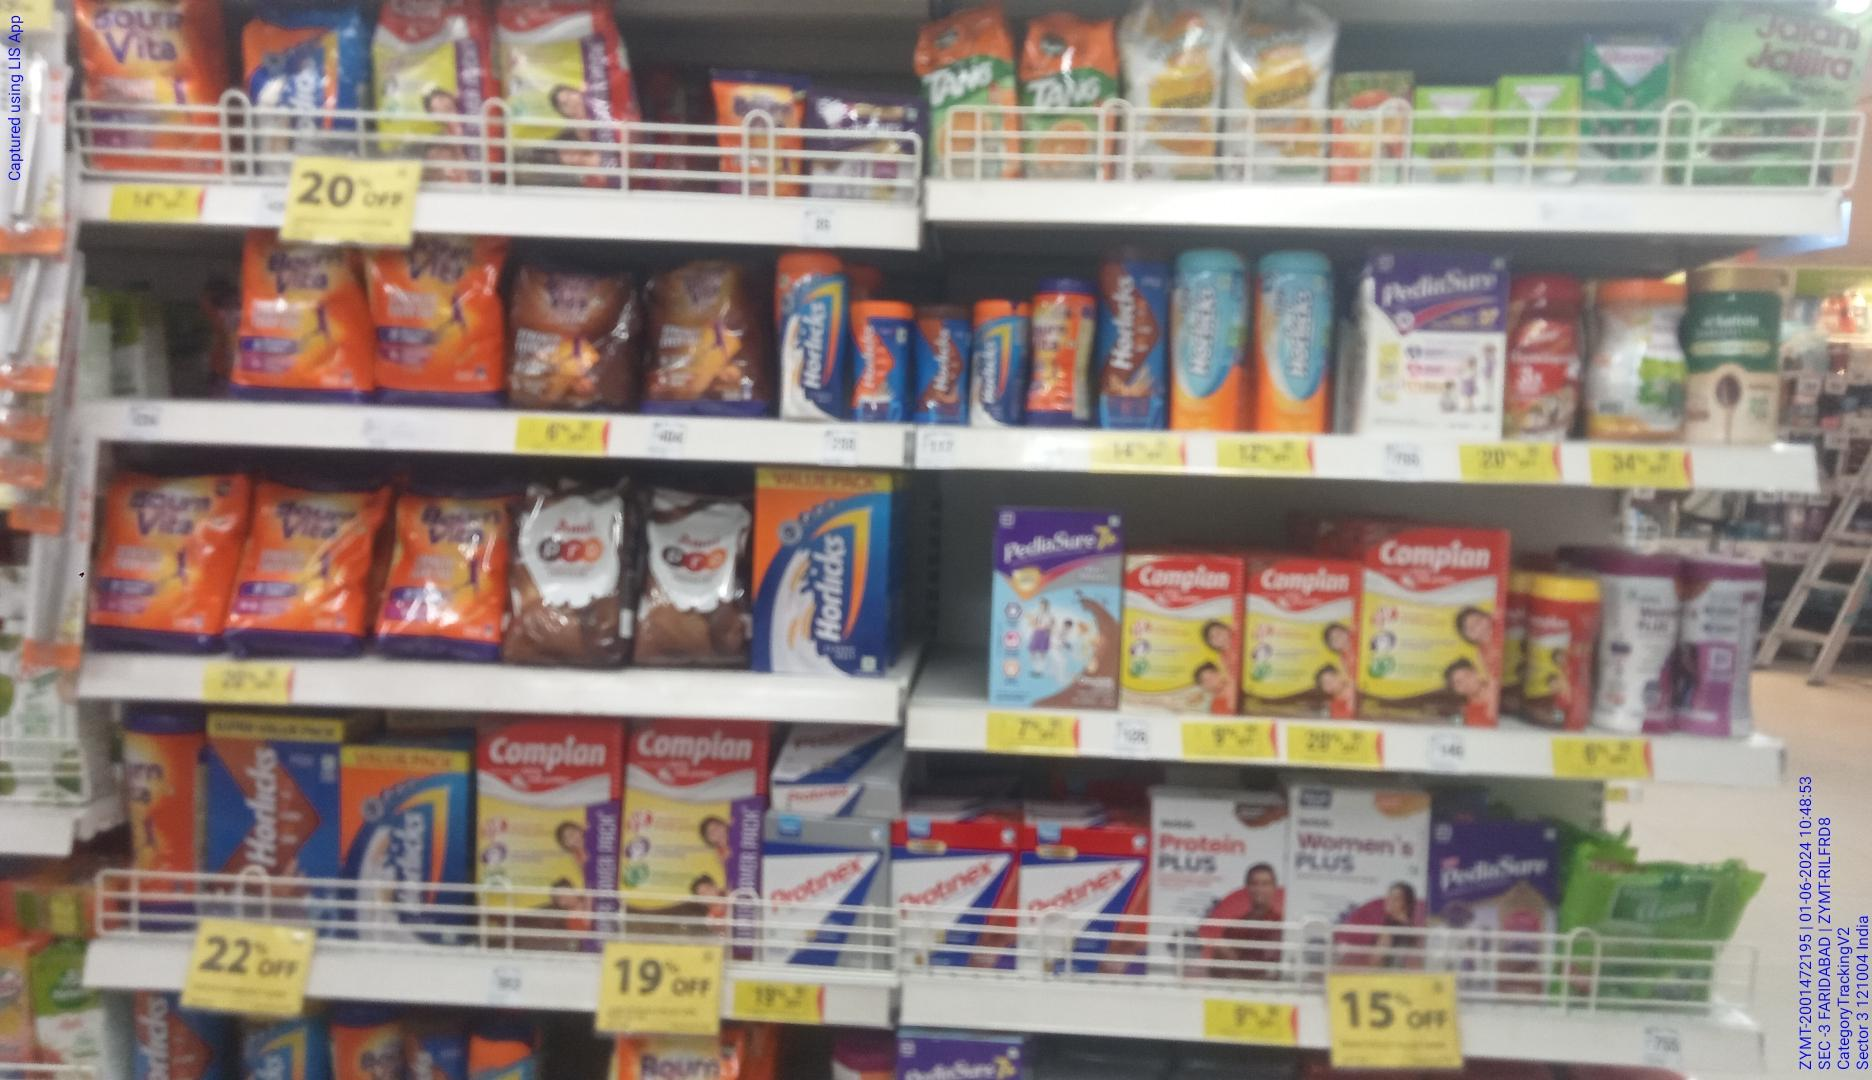COMPLAN_CHOCOLATE_1_KG_PACK: (622, 719, 762, 962), (473, 715, 615, 950)
COMPLAN_CHOCOLATE_200_GMS_PACK: (1243, 554, 1354, 721)
COMPLAN_CHOCOLATE_500_GMS_PACK: (1356, 527, 1506, 726)
HORLICK_CHOCOLATE_200_G_JAR: (917, 301, 967, 424)
HORLICK_CHOCOLATE_500_G_JAR: (1097, 240, 1166, 429)
HORLICK_CLASSIC_MALT_200_G_JAR: (972, 292, 1030, 427)
HORLICK_CLASSIC_MALT_500_G_JAR: (773, 251, 847, 422)
